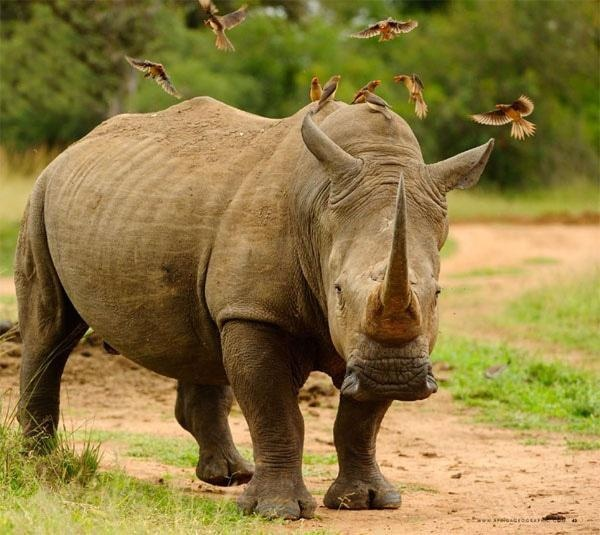rhino: (10, 95, 496, 518)
